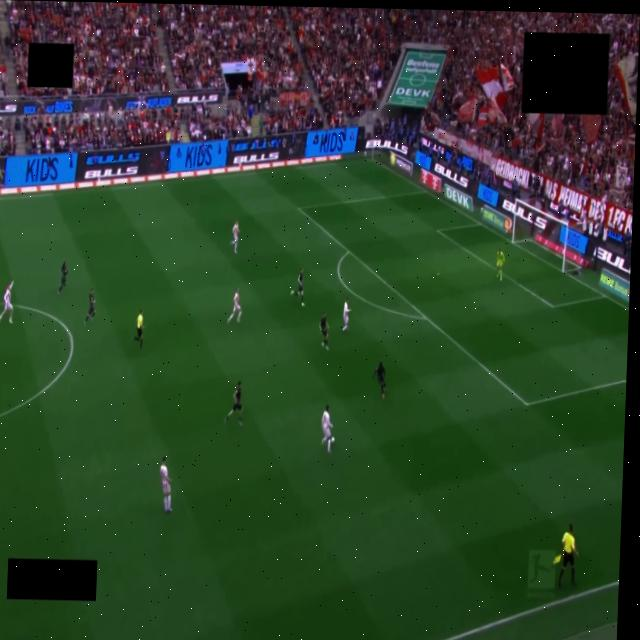ball: (331, 438, 334, 443)
player: (225, 382, 243, 426), (160, 457, 171, 513), (322, 406, 334, 453), (0, 281, 13, 323), (291, 268, 304, 306), (227, 288, 241, 323), (318, 312, 330, 351), (374, 361, 385, 399), (85, 289, 95, 323), (496, 249, 505, 281), (230, 221, 239, 253), (58, 262, 67, 294), (342, 298, 350, 331)
referee: (135, 310, 143, 349)
